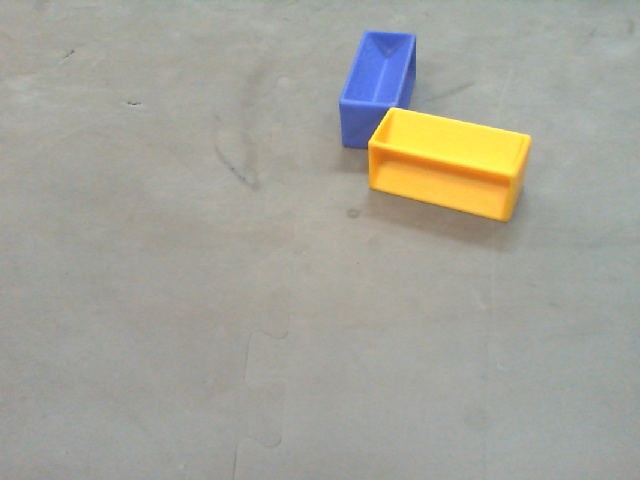BlueSample: (337, 26, 415, 151)
YellowSample: (365, 106, 531, 227)
